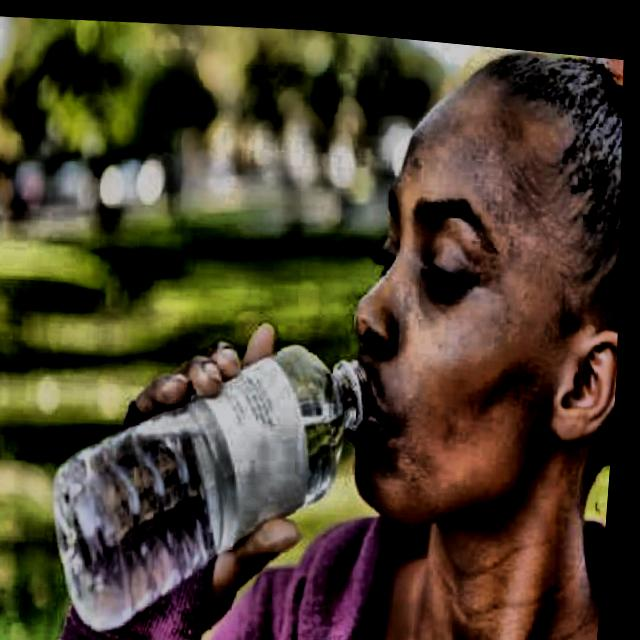Bottles: (0, 312, 451, 640)
